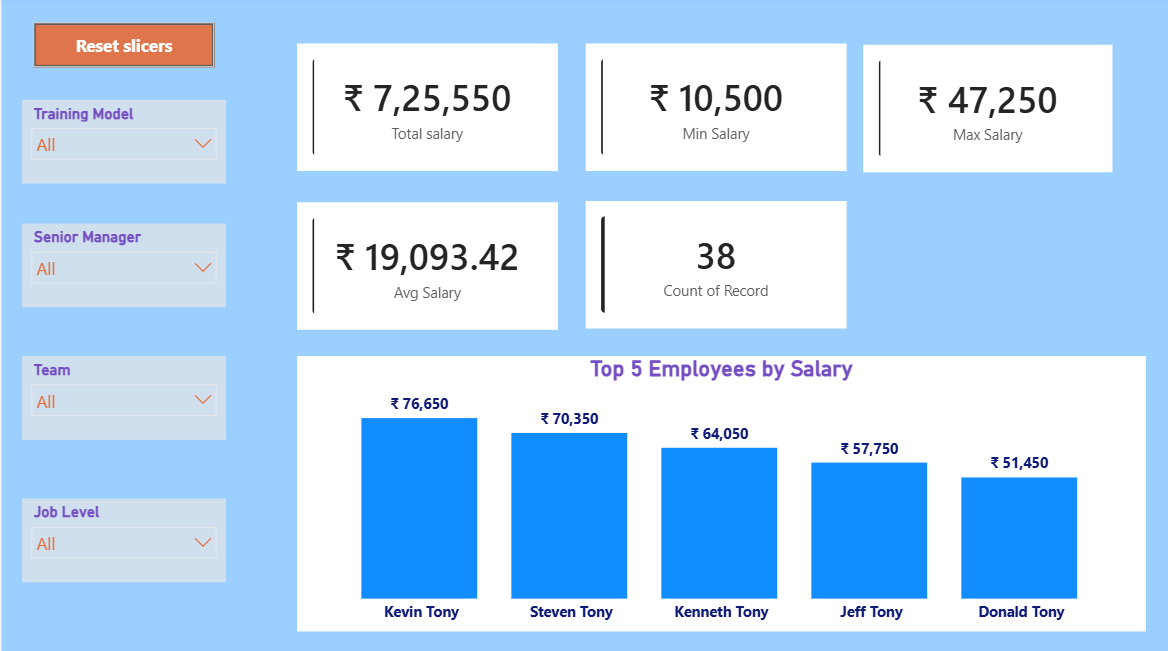

The page's visual inventory and layout, read from the dashboard file:
{"tool":"powerbi","page":{"name":"Page 2","canvas":[1280,720],"ordinal":1},"visuals":[{"type":"cardVisual","fields":{"Data":["Data.Total salary"]},"box":[323.2,52.3,286.3,140.1],"z":0},{"type":"cardVisual","fields":{"Data":["Data.Min Salary"]},"box":[640.2,52.3,286.3,140.1],"z":1000},{"type":"cardVisual","fields":{"Data":["Data.Max Salary"]},"box":[944.8,53.5,273.9,140.1],"z":2000},{"type":"cardVisual","fields":{"Data":["Data.Avg Salary"]},"box":[323.2,226.2,286.3,140.1],"z":2001},{"type":"slicer","fields":{"Values":["Data.Model"]},"box":[21.7,113.5,223.9,92.4],"z":2002},{"type":"slicer","fields":{"Values":["Data.Senior Manager"]},"box":[21.7,249.7,223.9,92.4],"z":2003},{"type":"slicer","fields":{"Values":["Data.Team"]},"box":[21.7,395.3,223.9,92.4],"z":2004},{"type":"slicer","fields":{"Values":["Data.Job Level"]},"box":[21.7,551.9,223.9,92.4],"z":2005},{"type":"actionButton","box":[34.5,28.7,199.2,49.8],"z":2006},{"type":"cardVisual","fields":{"Data":["Data.Count of Record"]},"box":[640.2,224.7,286.3,140.1],"z":2007},{"type":"clusteredColumnChart","title":"Top 5 Employees by Salary","fields":{"Y":["Sum(Data.Salary)"],"Category":["Data.Full Name"]},"box":[323.2,394.6,932.1,302.5],"z":2008}]}

Visuals, with their boxes in screenshot pixels (x1, y1, x2, y2), scaled from the page's 1280x720 canvas onto the 1168x651 screenshot:
cardVisual - Data.Total salary: box(295, 47, 556, 174)
cardVisual - Data.Min Salary: box(584, 47, 845, 174)
cardVisual - Data.Max Salary: box(862, 48, 1112, 175)
cardVisual - Data.Avg Salary: box(295, 205, 556, 331)
slicer - Data.Model: box(20, 103, 224, 186)
slicer - Data.Senior Manager: box(20, 226, 224, 309)
slicer - Data.Team: box(20, 357, 224, 441)
slicer - Data.Job Level: box(20, 499, 224, 583)
actionButton: box(31, 26, 213, 71)
cardVisual - Data.Count of Record: box(584, 203, 845, 330)
"Top 5 Employees by Salary" clusteredColumnChart: box(295, 357, 1145, 630)
